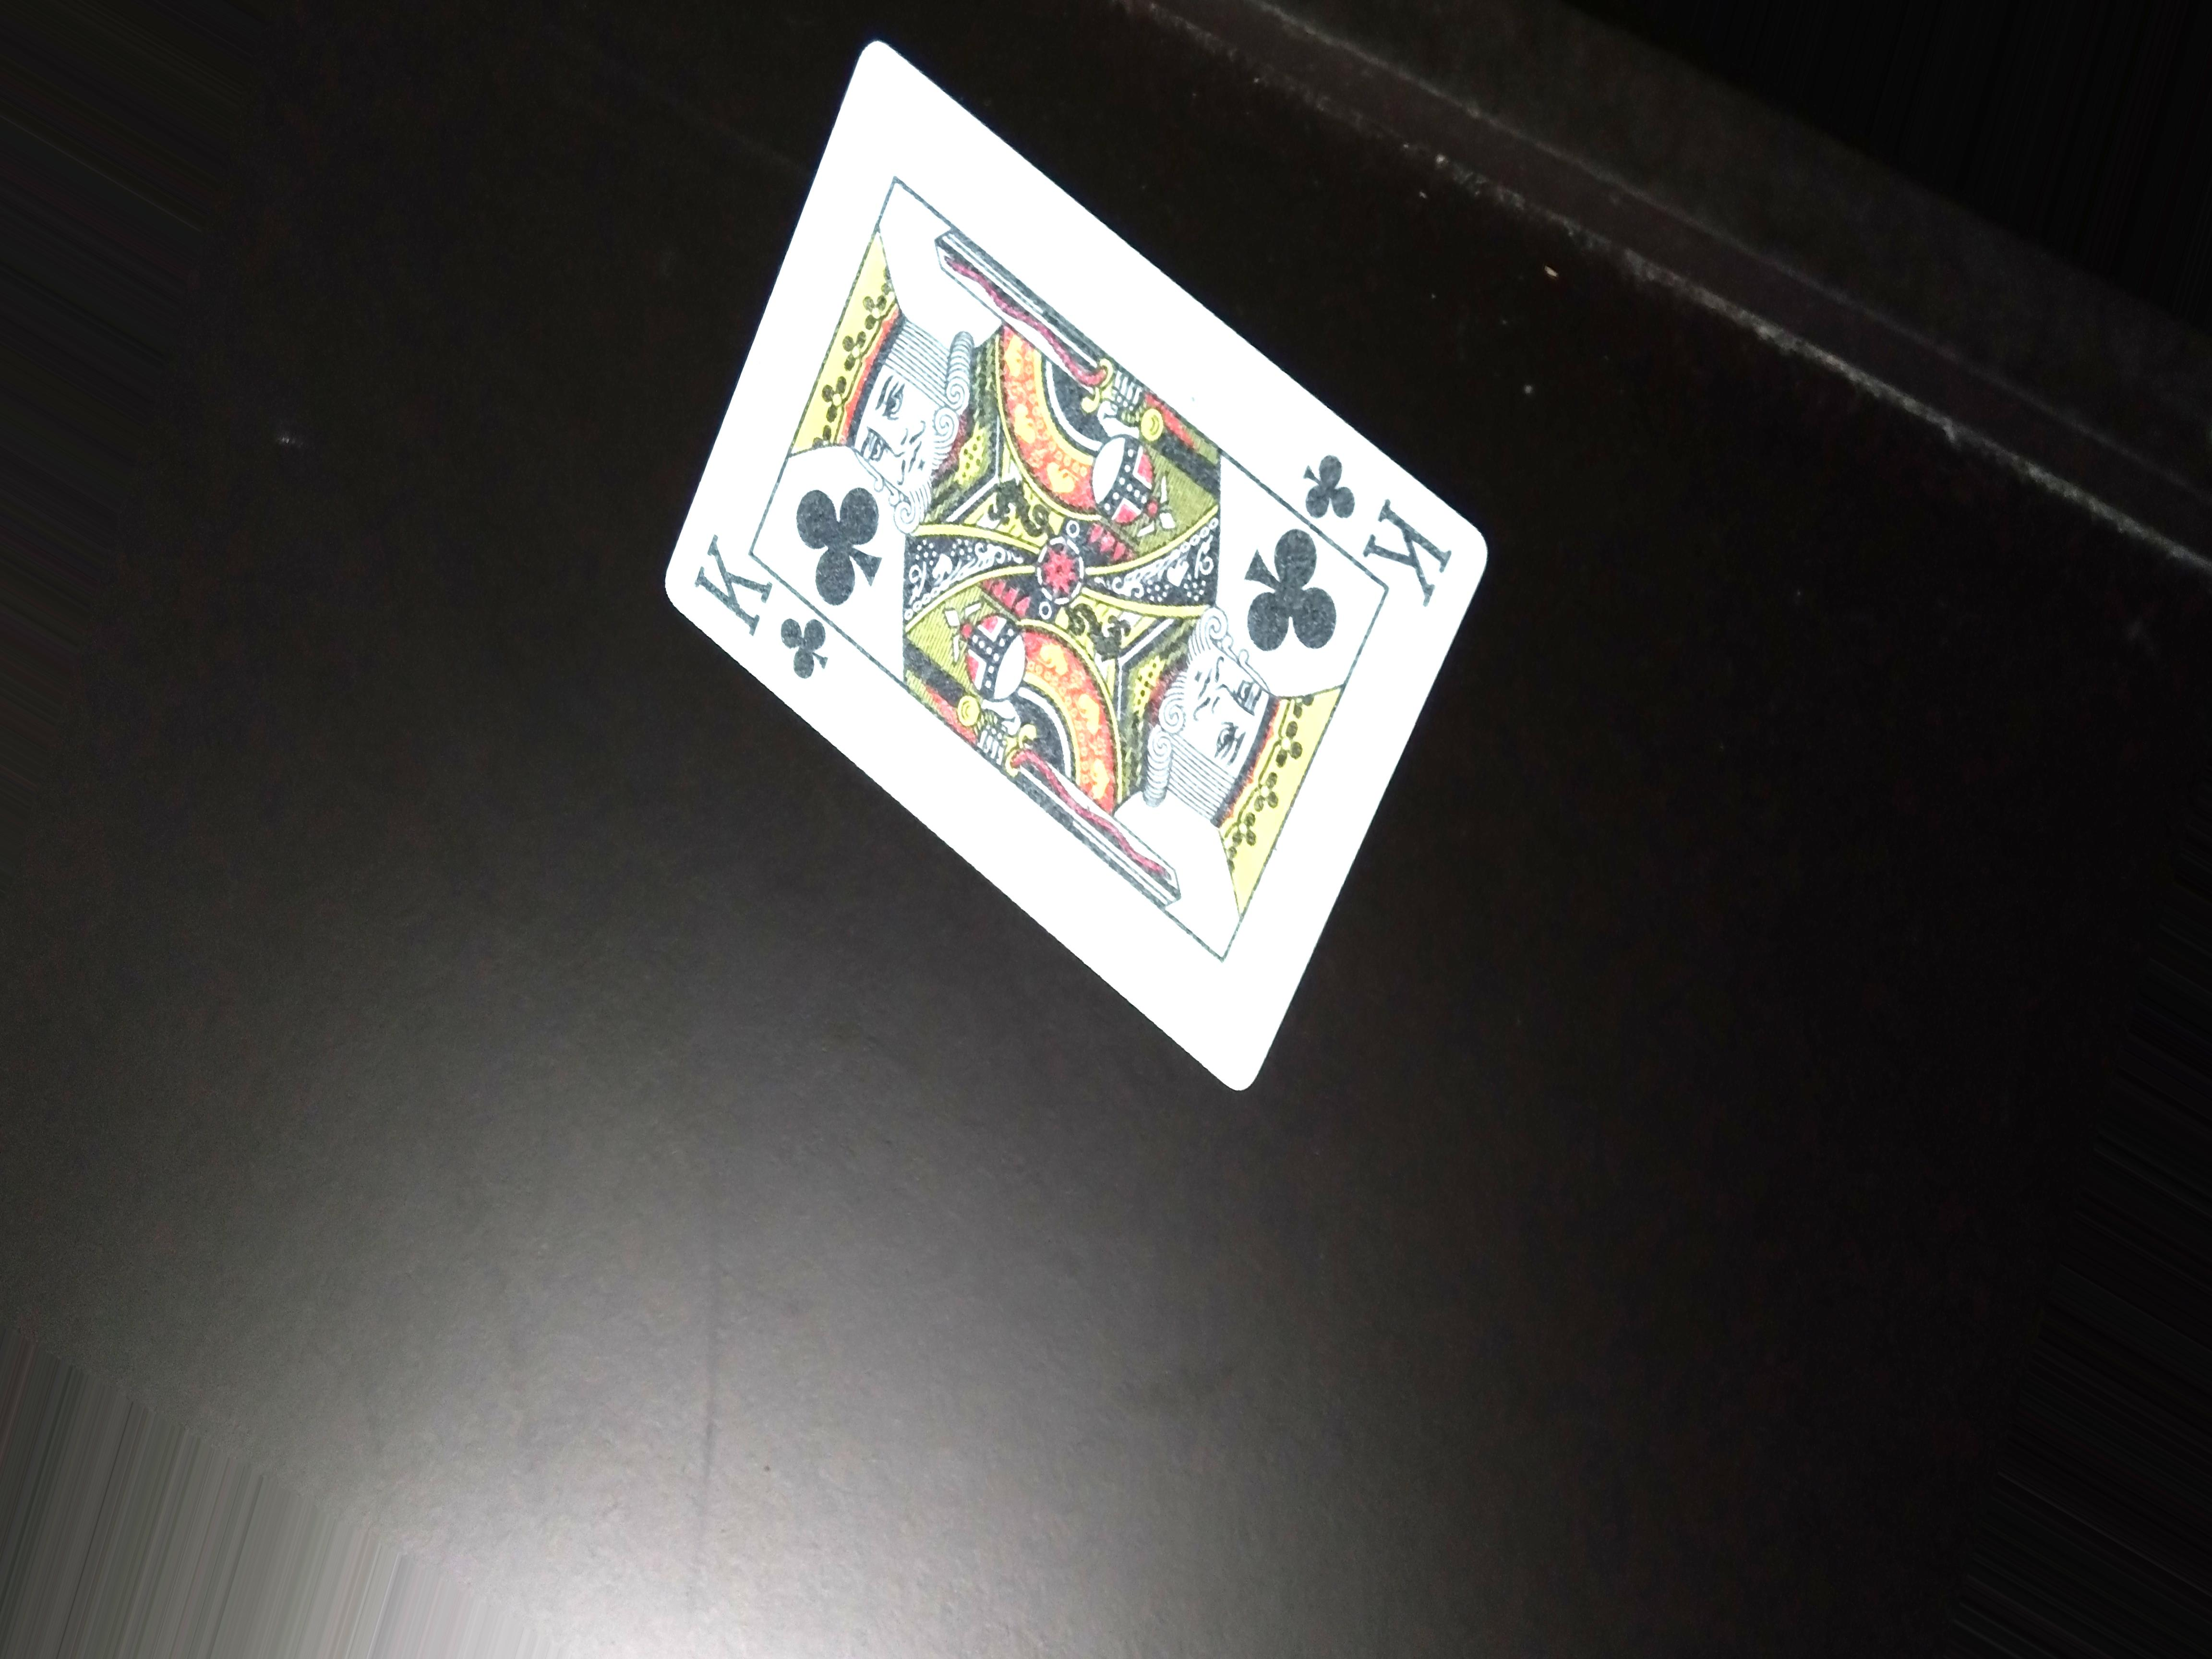KC: (1291, 451, 1463, 601)
